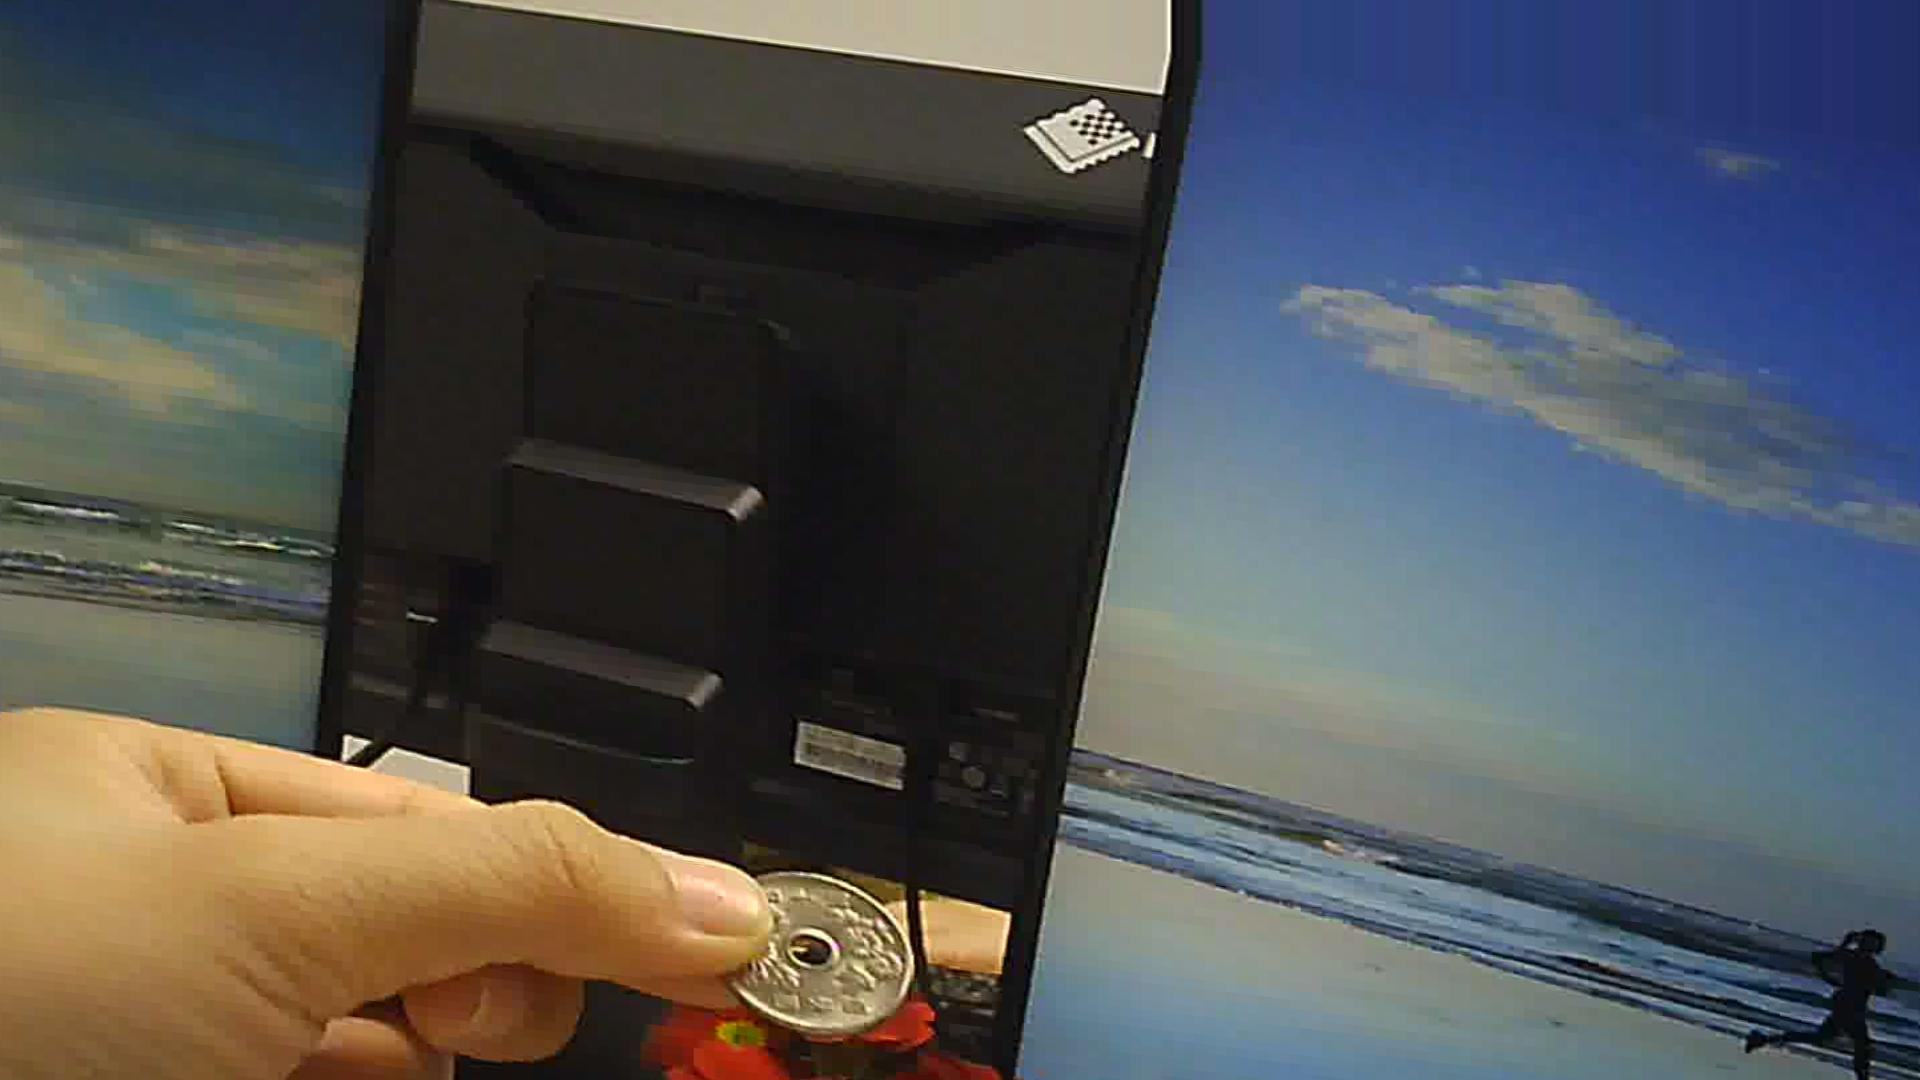50 Yen: (720, 866, 923, 1033)
